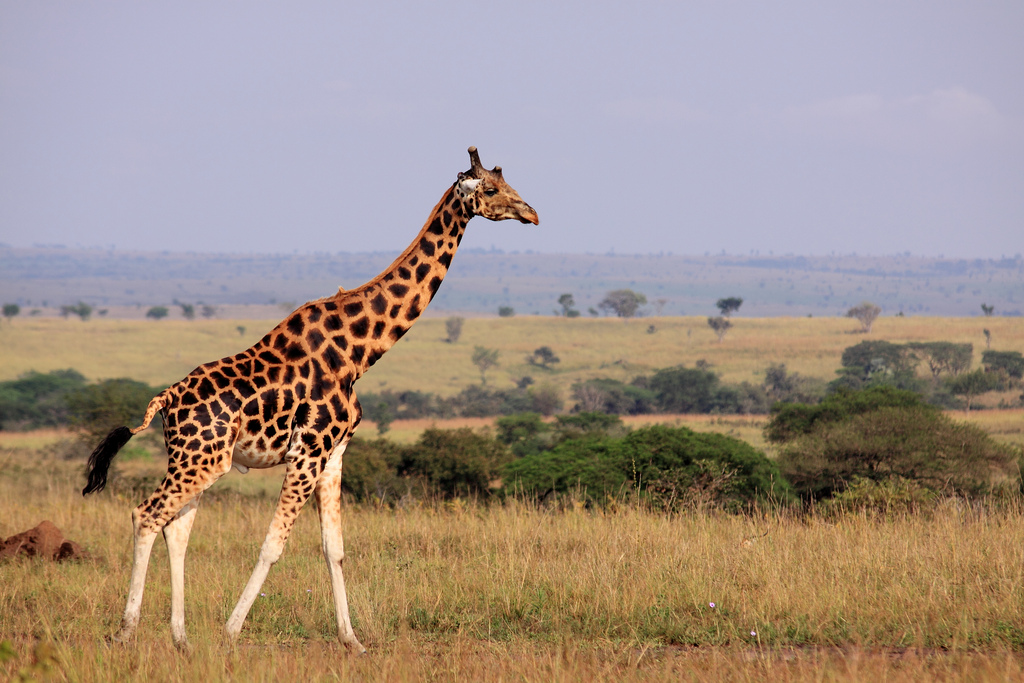giraffe: (83, 137, 553, 633)
